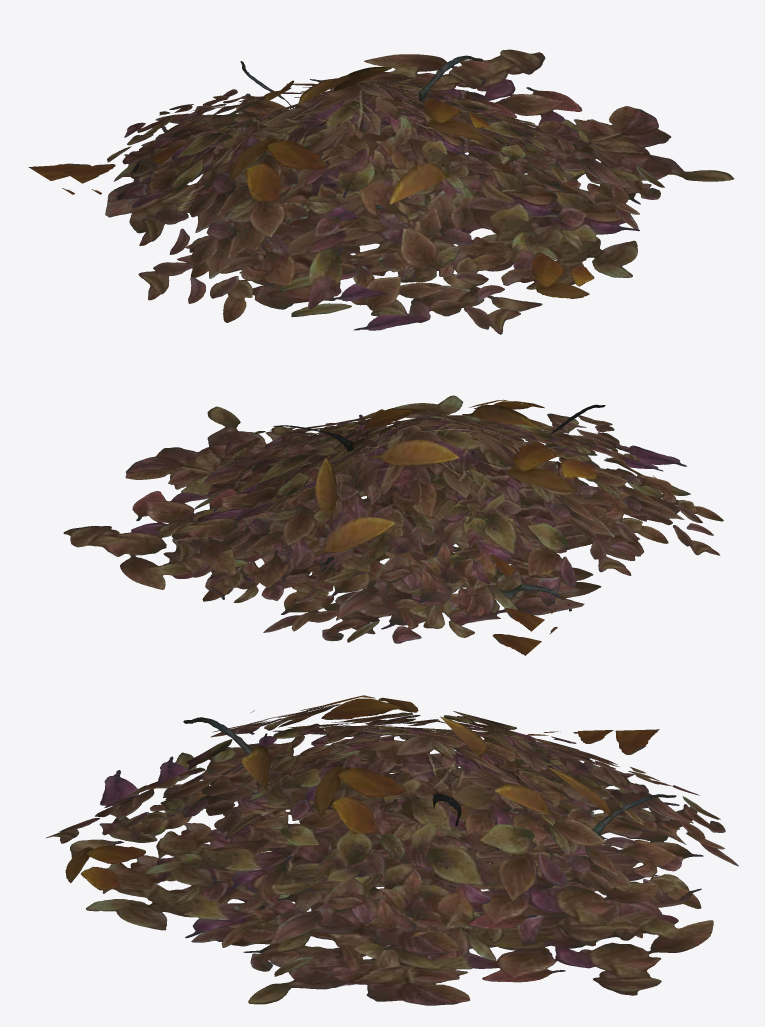
The picture shows the model from 3 angles, top to bottom: view 1: azimuth 30°, elevation 25°; view 2: azimuth 150°, elevation 25°; view 3: azimuth 270°, elevation 25°; orthographic projection. The views are drawn at different scales.
Bounding box in the file's own units: 8.14 × 1.66 × 7.89.
Materials: 1 (1 with a texture image).
